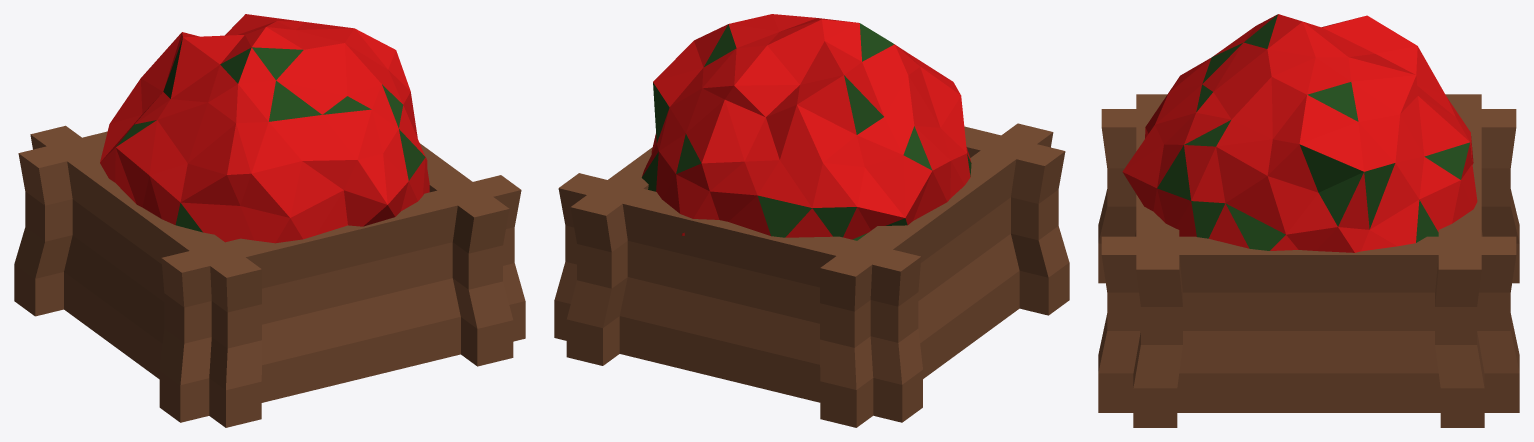
The model's file is FlowersRed.obj.
The picture shows the model from 3 angles, left to right: view 1: azimuth 30°, elevation 25°; view 2: azimuth 150°, elevation 25°; view 3: azimuth 270°, elevation 25°; orthographic projection. The views are drawn at different scales.
Parts seen in each view (by area): view 1: Object.001; view 2: Object.001; view 3: Object.001.
Boxes of the visible parts, bbox=[...] form: Object.001: bbox=[14, 14, 525, 427]; Object.001: bbox=[554, 14, 1069, 427]; Object.001: bbox=[1098, 14, 1519, 427].
Size of the model in its own units: 2.44 by 2 by 2.44.
